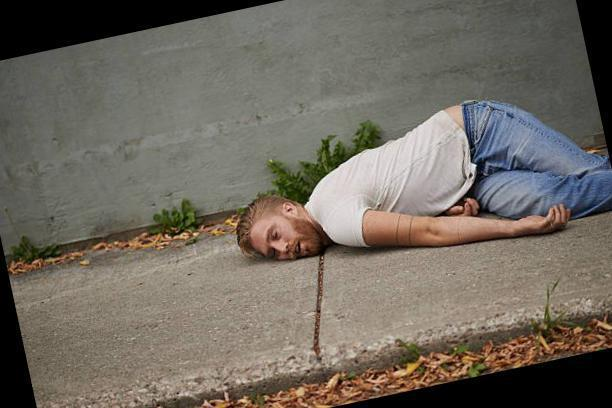Drunk: (250, 214, 317, 257)
